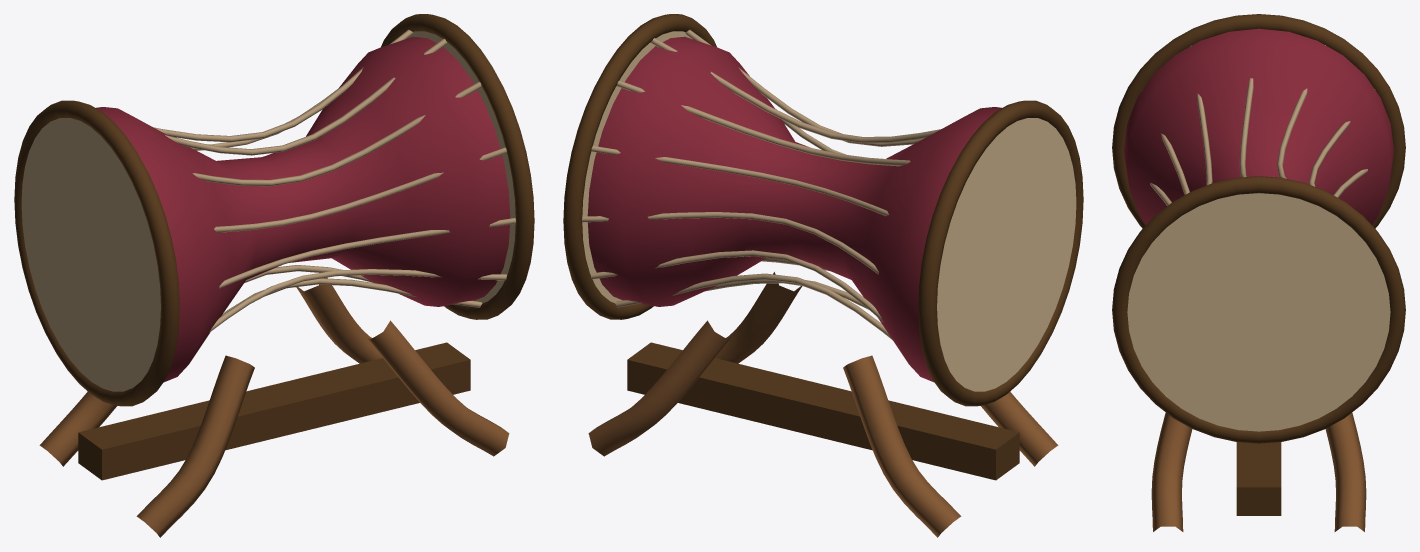
File: mia-drum.glb
3 views of the same model, side by side, from view 1: azimuth 30°, elevation 25°; view 2: azimuth 150°, elevation 25°; view 3: azimuth 270°, elevation 25° (orthographic). The views are drawn at different scales.
Parts seen in each view (by area): view 1: Body_velvet, Body_wood, Body_ivory, Body_oak, Body_page-beige; view 2: Body_velvet, Body_wood, Body_ivory, Body_oak, Body_page-beige; view 3: Body_ivory, Body_velvet, Body_wood, Body_oak, Body_page-beige.
Boxes of the visible parts, x1,y1,x2,y2 form: Body_velvet: (96, 36, 510, 382); Body_wood: (14, 14, 534, 480); Body_ivory: (21, 31, 515, 391); Body_oak: (39, 277, 509, 537); Body_page-beige: (153, 29, 515, 332); Body_velvet: (587, 36, 1001, 382); Body_wood: (563, 14, 1083, 480); Body_ivory: (582, 31, 1076, 391); Body_oak: (588, 272, 1058, 537); Body_page-beige: (582, 30, 940, 340); Body_ivory: (1127, 193, 1390, 431); Body_velvet: (1124, 28, 1393, 224); Body_wood: (1112, 14, 1405, 515); Body_oak: (1151, 412, 1366, 531); Body_page-beige: (1142, 45, 1375, 205).
Size of the model in its own units: 0.7955 by 0.8 by 0.582.
